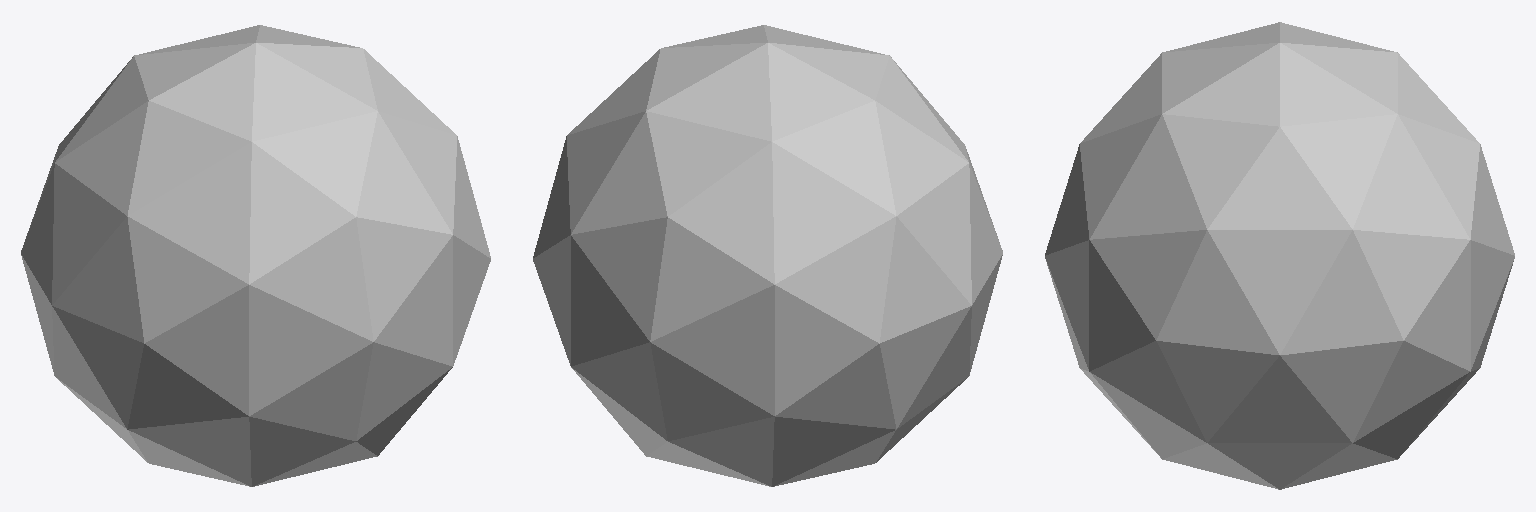
The model's file is Cannonball.obj.
3 views of the same model, side by side, from view 1: azimuth 30°, elevation 25°; view 2: azimuth 150°, elevation 25°; view 3: azimuth 270°, elevation 25° (orthographic).
Visible parts, largest first — view 1: Cannonball; view 2: Cannonball; view 3: Cannonball.
Part boxes in pixels (left/top/right/bottom): Cannonball: left=21, top=25, right=490, bottom=486; Cannonball: left=533, top=25, right=1002, bottom=486; Cannonball: left=1045, top=22, right=1514, bottom=489.
Size of the model in its own units: 2 by 2 by 2.